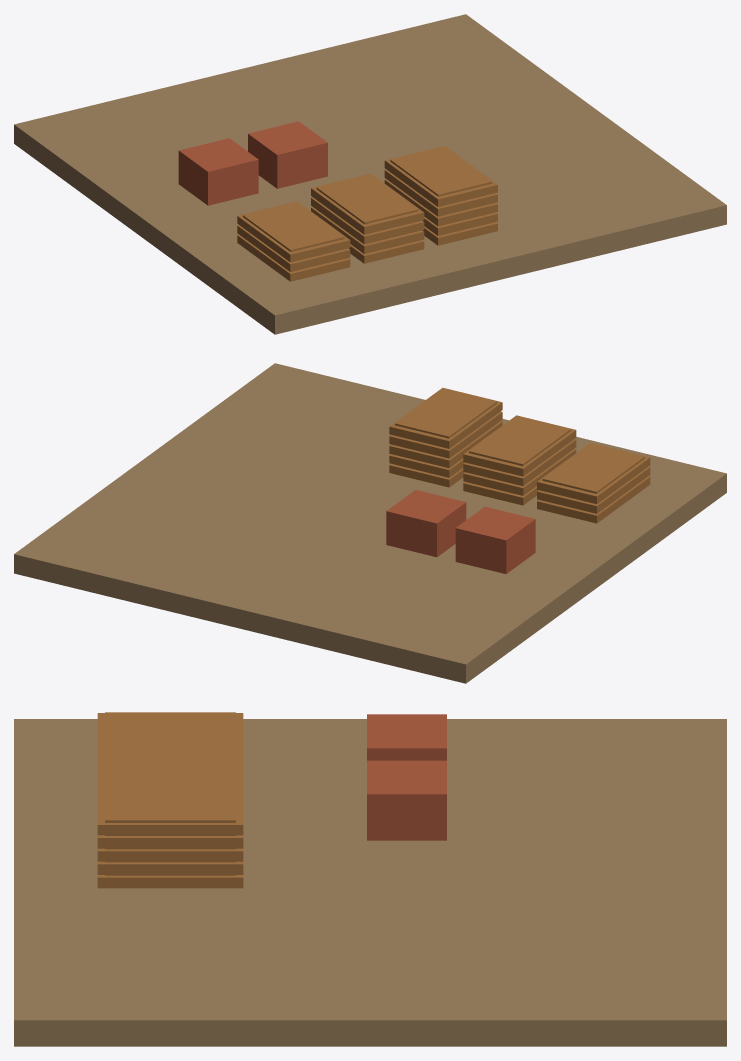
File: forest_special_1.glb
3 renders of one model, top to bottom at view 1: azimuth 30°, elevation 25°; view 2: azimuth 150°, elevation 25°; view 3: azimuth 270°, elevation 25°, orthographic. The views are drawn at different scales.
Visible parts, largest first — view 1: forest_special_1; view 2: forest_special_1; view 3: forest_special_1.
Part boxes in pixels (left/top/right/bottom): forest_special_1: left=14, top=14, right=726, bottom=334; forest_special_1: left=14, top=363, right=726, bottom=683; forest_special_1: left=14, top=712, right=726, bottom=1046.
Size of the model in its own units: 1.96 by 0.28 by 1.96.
